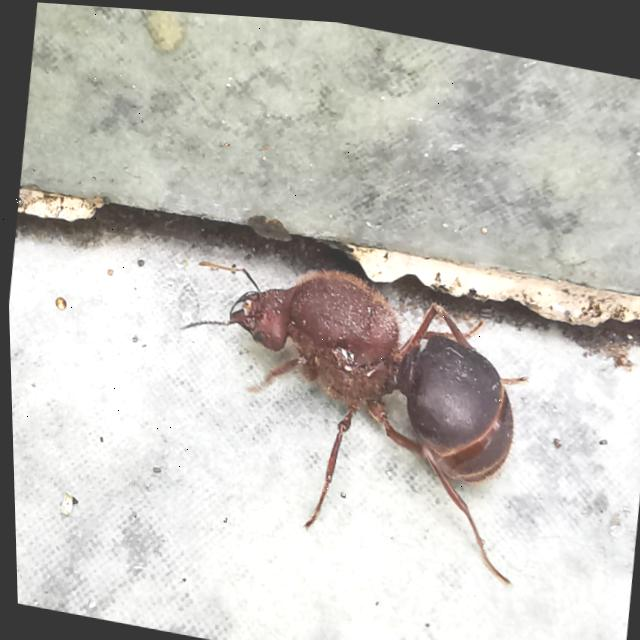Alive-Female-Dealate: (150, 235, 541, 581)
